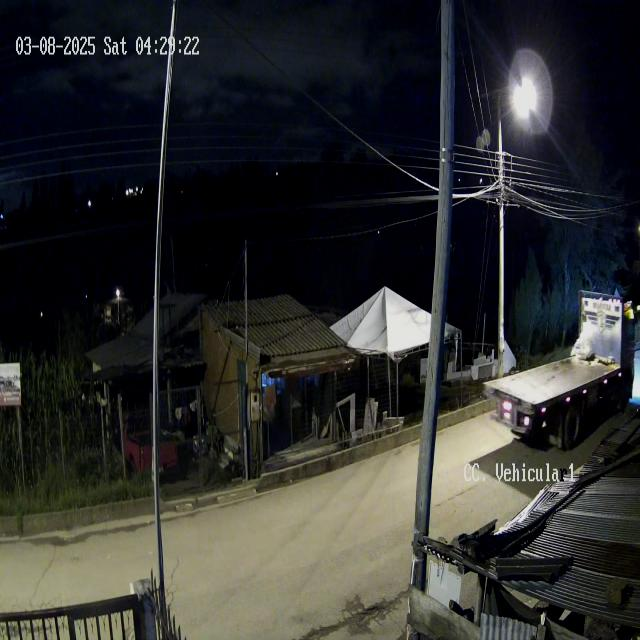TRUCK: (482, 290, 636, 450)
